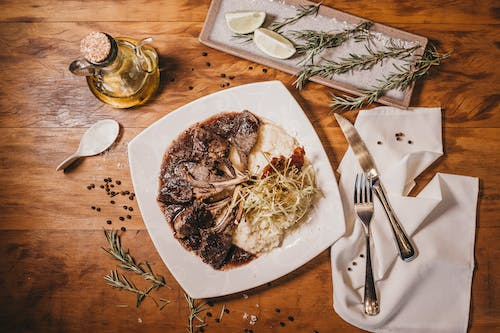knife: (332, 111, 419, 264)
